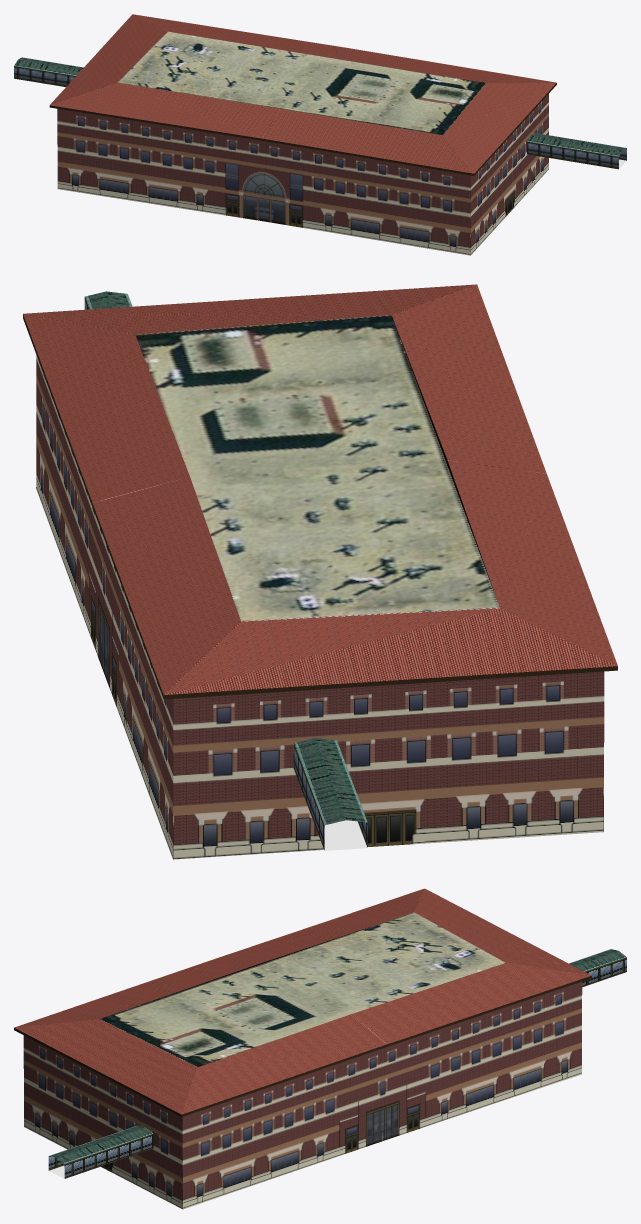
The model's file is MSEE.fbx.
3 renders of one model, top to bottom at view 1: azimuth 30°, elevation 25°; view 2: azimuth 150°, elevation 25°; view 3: azimuth 270°, elevation 25°, orthographic. The views are drawn at different scales.
Parts seen in each view (by area): view 1: bd2, bd1, Model; view 2: bd1, Model, bd2; view 3: bd2, bd1, Model.
Part boxes in pixels (bbox=[...]): bd2: bbox=[262, 47, 556, 255]; bd1: bbox=[49, 14, 344, 221]; Model: bbox=[14, 31, 626, 169]; bd1: bbox=[92, 460, 617, 859]; Model: bbox=[84, 291, 499, 850]; bd2: bbox=[23, 284, 546, 672]; bd2: bbox=[14, 957, 386, 1209]; bd1: bbox=[220, 888, 591, 1140]; Model: bbox=[48, 912, 626, 1178].
Size of the model in its own units: 3427 by 751 by 3717.
